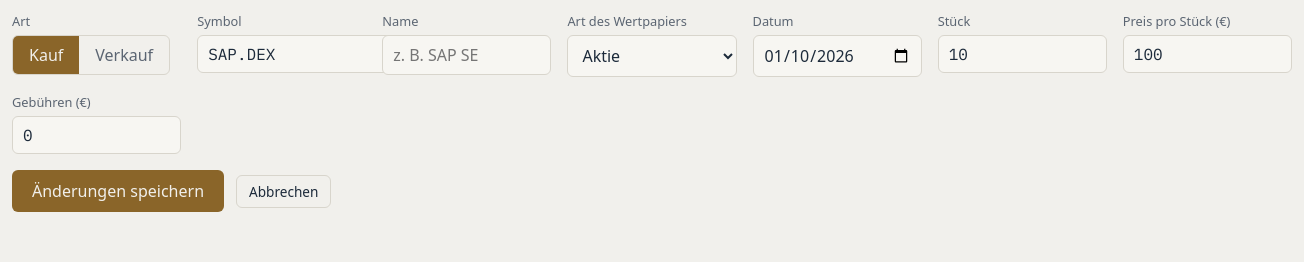
Test: TransactionForm › editing an existing transaction › rejects shrinking a buy below what a later sell already consumed
This screenshot has width=1304, height=262.
Replace the text in the number field labelled "Stück" with "5" at (1022, 54), box x1=938 y1=35 x2=1107 y2=73
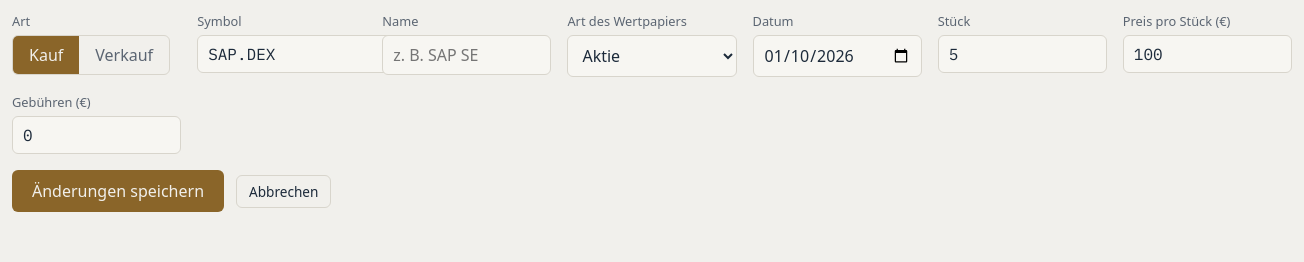
Click the button "Änderungen speichern" at (118, 191), box x1=12 y1=170 x2=224 y2=212
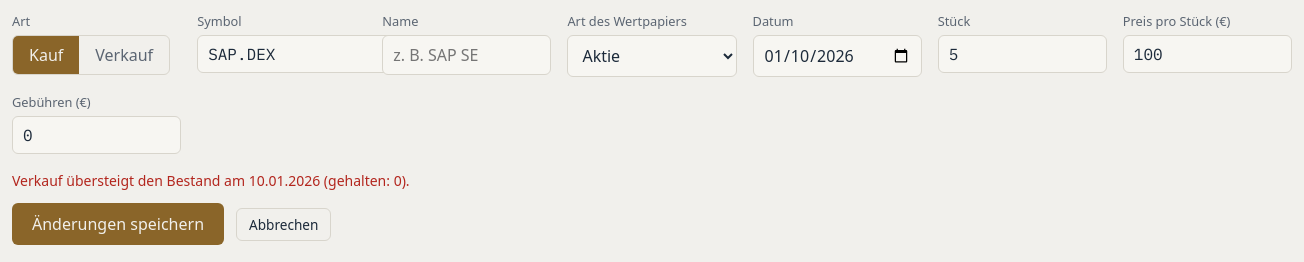
expect the text "Verkauf übersteigt den Bestand am 10.01.2026 (gehalten: 0)." is shown: met, box x1=12 y1=171 x2=410 y2=190
